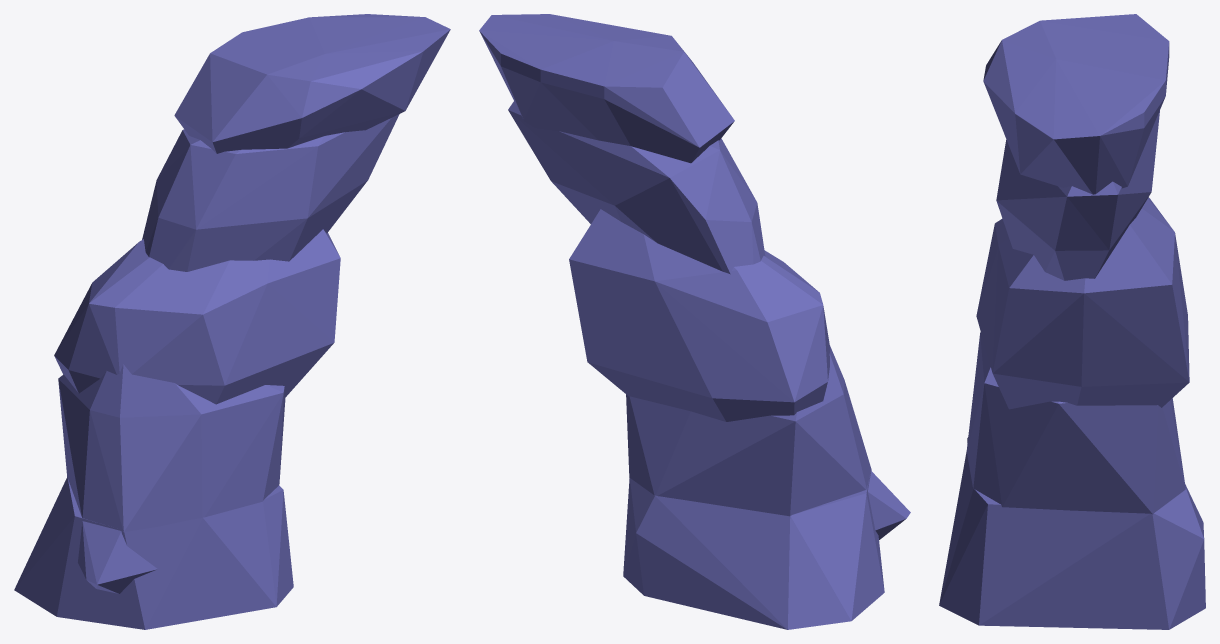
The model's file is Cliff_Fin_02_Arch_Collider_01.FBX.
The picture shows the model from 3 angles, left to right: view 1: azimuth 30°, elevation 25°; view 2: azimuth 150°, elevation 25°; view 3: azimuth 270°, elevation 25°; orthographic projection. The views are drawn at different scales.
Visible parts, largest first — view 1: COLLIDER3, COLLIDER5, COLLIDER1, COLLIDER2, COLLIDER4, COLLIDER6; view 2: COLLIDER3, COLLIDER2, COLLIDER1, COLLIDER5, COLLIDER4, COLLIDER6; view 3: COLLIDER3, COLLIDER2, COLLIDER1, COLLIDER5, COLLIDER4.
Part boxes in pixels (x1,y1,x2,y2): COLLIDER3: (54, 229, 340, 404); COLLIDER5: (58, 364, 285, 532); COLLIDER1: (174, 14, 450, 153); COLLIDER2: (14, 477, 293, 629); COLLIDER4: (142, 114, 399, 271); COLLIDER6: (78, 521, 157, 593); COLLIDER3: (569, 209, 830, 421); COLLIDER2: (623, 471, 884, 629); COLLIDER1: (479, 14, 734, 163); COLLIDER5: (626, 346, 871, 516); COLLIDER4: (508, 101, 765, 274); COLLIDER6: (868, 471, 910, 539); COLLIDER3: (976, 197, 1189, 409); COLLIDER2: (939, 452, 1205, 629); COLLIDER1: (983, 14, 1169, 194); COLLIDER5: (966, 332, 1185, 514); COLLIDER4: (996, 110, 1159, 280).
Bounding box in the file's own units: 570 × 672 × 269.
